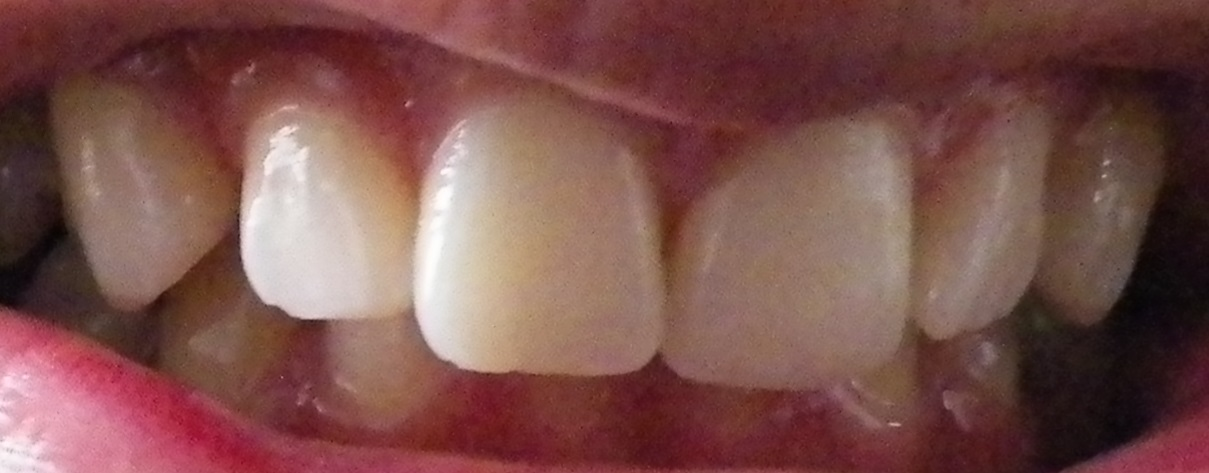boca: (37, 69, 1152, 466)
